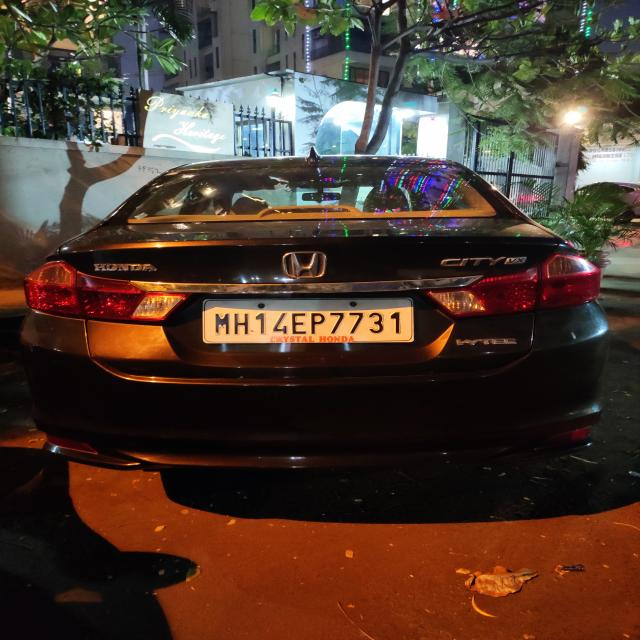Number-Plate: (204, 300, 415, 343)
